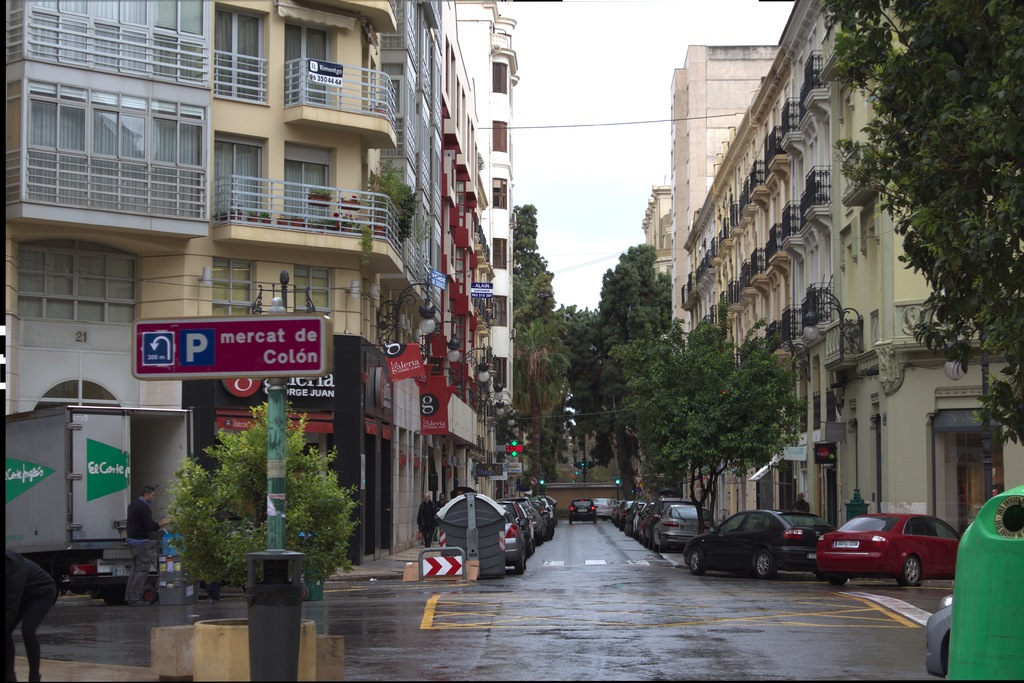Car: (595, 495, 960, 588), (497, 502, 559, 575), (924, 591, 952, 675), (567, 500, 598, 525)
